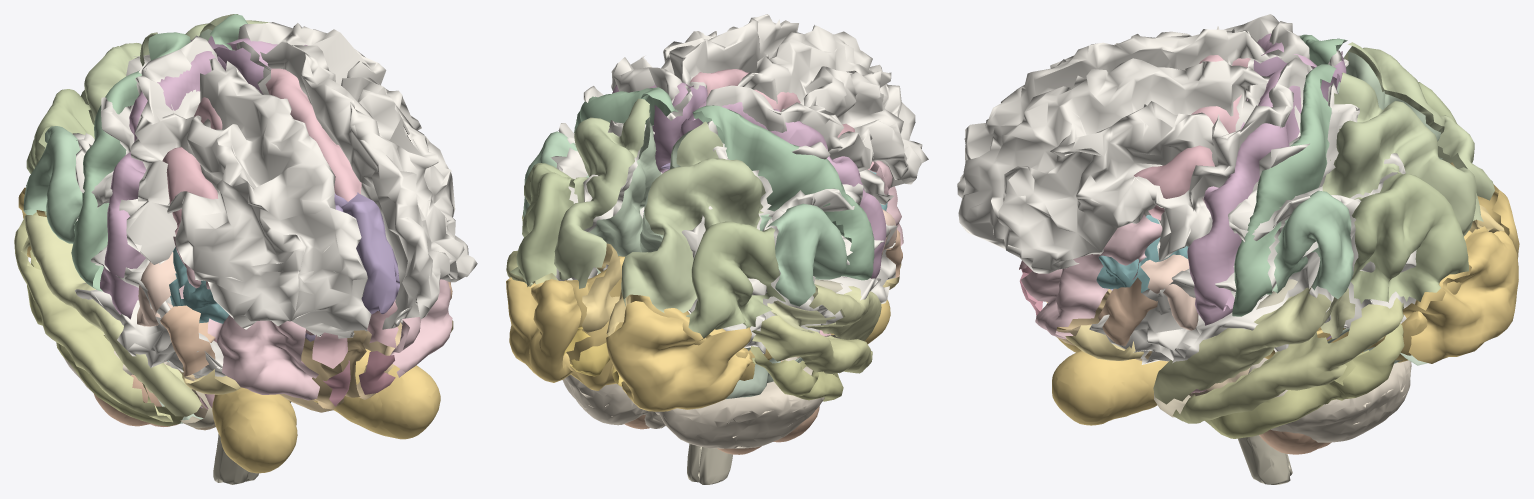
Rendered from brain.glb.
3 renders of one model, left to right at view 1: azimuth 30°, elevation 25°; view 2: azimuth 150°, elevation 25°; view 3: azimuth 270°, elevation 25°, orthographic. The views are drawn at different scales.
Visible parts, largest first — view 1: white-matter-right, white-matter-left, xie-cn2-optic, fsavg-L-rostralmiddlefrontal, fsavg-L-superiortemporal, fsavg-L-middletemporal, fsavg-L-postcentral, fsavg-L-precentral, fsavg-L-supramarginal, fsavg-R-superiorfrontal, cingulate, fsavg-R-rostralmiddlefrontal (+18 smaller); view 2: white-matter-right, fsavg-L-superiorparietal, fsavg-L-lateraloccipital, white-matter-left, cerebellum, fsavg-L-postcentral, fsavg-R-superiorparietal, fsavg-L-inferiorparietal, fsavg-R-lateraloccipital, fsavg-L-supramarginal, fsavg-R-inferiorparietal, fsavg-L-middletemporal (+18 smaller); view 3: white-matter-left, fsavg-R-inferiorparietal, white-matter-right, fsavg-R-superiorparietal, fsavg-R-lateraloccipital, fsavg-R-middletemporal, fsavg-R-postcentral, fsavg-R-precentral, fsavg-R-superiortemporal, xie-cn2-optic, fsavg-R-rostralmiddlefrontal, fsavg-R-supramarginal (+17 smaller).
Boxes of the visible parts, x1,y1,x2,y2 form: white-matter-right: (72, 35, 371, 380); white-matter-left: (232, 22, 477, 331); xie-cn2-optic: (212, 348, 440, 473); fsavg-L-rostralmiddlefrontal: (173, 236, 319, 400); fsavg-L-superiortemporal: (24, 215, 201, 416); fsavg-L-middletemporal: (14, 212, 172, 422); fsavg-L-postcentral: (71, 32, 190, 291); fsavg-L-precentral: (100, 51, 221, 319); fsavg-L-supramarginal: (23, 126, 82, 243); fsavg-R-superiorfrontal: (265, 68, 398, 348); cingulate: (334, 192, 399, 314); fsavg-R-rostralmiddlefrontal: (390, 279, 452, 377); white-matter-right: (681, 25, 928, 354); fsavg-L-superiorparietal: (621, 121, 765, 312); fsavg-L-lateraloccipital: (606, 301, 753, 411); white-matter-left: (550, 14, 798, 280); cerebellum: (562, 357, 824, 448); fsavg-L-postcentral: (692, 105, 874, 280); fsavg-R-superiorparietal: (554, 98, 649, 288); fsavg-L-inferiorparietal: (686, 221, 785, 337); fsavg-R-lateraloccipital: (506, 277, 581, 382); fsavg-L-supramarginal: (759, 203, 846, 306); fsavg-R-inferiorparietal: (510, 163, 574, 286); fsavg-L-middletemporal: (752, 315, 872, 374); white-matter-left: (958, 57, 1416, 364); fsavg-R-inferiorparietal: (1350, 172, 1468, 303); white-matter-right: (957, 14, 1348, 197); fsavg-R-superiorparietal: (1322, 72, 1483, 236); fsavg-R-lateraloccipital: (1402, 226, 1518, 363); fsavg-R-middletemporal: (1172, 297, 1403, 423); fsavg-R-postcentral: (1232, 64, 1336, 316); fsavg-R-precentral: (1187, 69, 1308, 325); fsavg-R-superiortemporal: (1153, 284, 1331, 404); xie-cn2-optic: (1052, 327, 1321, 425); fsavg-R-rostralmiddlefrontal: (1021, 214, 1162, 339); fsavg-R-supramarginal: (1272, 190, 1353, 298).
Size of the model in its own units: 2.29 by 2.74 by 3.22.
